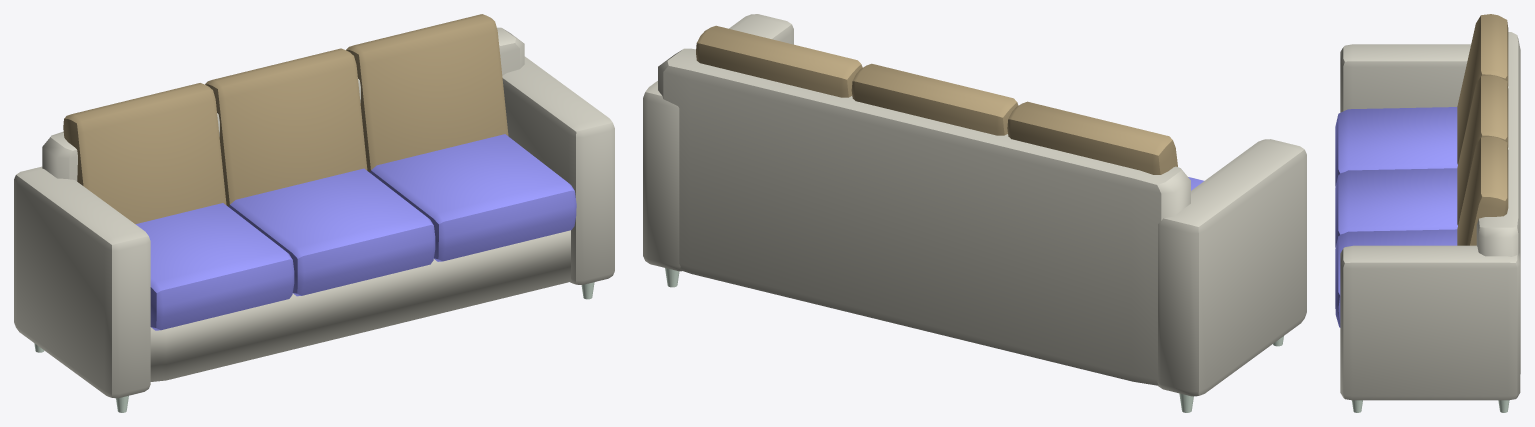
The model's file is Sofa.fbx.
The picture shows the model from 3 angles, left to right: view 1: azimuth 30°, elevation 25°; view 2: azimuth 150°, elevation 25°; view 3: azimuth 270°, elevation 25°; orthographic projection. The views are drawn at different scales.
Visible parts, largest first — view 1: LeftarmRest, SofaBase, Cushion6, Cushion5, Cushion4, Cushion2, Cushion3, Cushion1, RightArmRest, SofaBack; view 2: SofaBack, LeftarmRest, RightArmRest, Cushion4, Cushion6, Cushion5; view 3: RightArmRest, LeftarmRest, Cushion1, Cushion2, SofaBack, Cushion6, Cushion5, Cushion4, Cushion3, Feet.
Part boxes in pixels (box(x1,y1,x2,y2)): LeftarmRest: box(14, 166, 150, 398); SofaBase: box(150, 230, 571, 381); Cushion6: box(346, 14, 508, 172); Cushion5: box(205, 48, 367, 206); Cushion4: box(63, 83, 226, 224); Cushion2: box(229, 168, 435, 296); Cushion3: box(370, 134, 576, 261); Cushion1: box(136, 203, 294, 330); RightArmRest: box(502, 56, 614, 284); SofaBack: box(42, 27, 524, 181); SofaBack: box(658, 48, 1190, 385); LeftarmRest: box(1157, 139, 1306, 396); RightArmRest: box(643, 14, 793, 271); Cushion4: box(1007, 101, 1177, 174); Cushion6: box(696, 25, 862, 97); Cushion5: box(851, 63, 1018, 135); RightArmRest: box(1340, 245, 1520, 400); LeftarmRest: box(1340, 44, 1470, 112); Cushion1: box(1335, 107, 1457, 186); Cushion2: box(1335, 168, 1457, 247); SofaBack: box(1476, 32, 1520, 373); Cushion6: box(1457, 136, 1508, 245); Cushion5: box(1457, 75, 1508, 224); Cushion4: box(1457, 14, 1508, 164); Cushion3: box(1335, 229, 1457, 327); Feet: box(1352, 400, 1509, 412).
Size of the model in its own units: 117 by 51.32 by 41.48.
